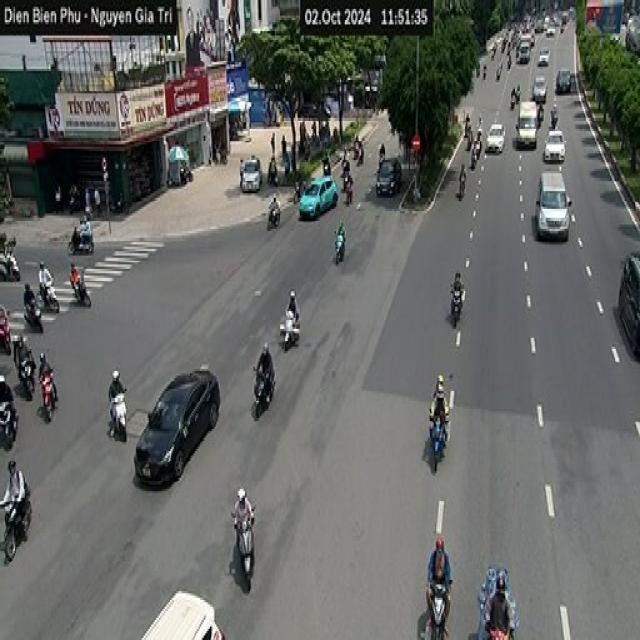car: (132, 362, 220, 487), (535, 169, 571, 240), (298, 173, 338, 218), (375, 156, 401, 196), (238, 153, 262, 191), (543, 129, 565, 162), (485, 122, 505, 154), (555, 67, 571, 93)
motorcycle: (230, 505, 255, 591), (0, 496, 31, 562), (251, 364, 275, 418), (428, 409, 448, 473), (108, 387, 128, 442), (69, 264, 91, 306), (279, 309, 300, 351), (68, 224, 94, 256), (38, 278, 58, 311), (334, 229, 345, 264), (266, 202, 280, 229)
person: (425, 536, 453, 636), (0, 458, 29, 536), (488, 573, 516, 638), (231, 487, 254, 549), (429, 373, 450, 440), (252, 342, 274, 402), (450, 271, 465, 320), (285, 289, 299, 324)
